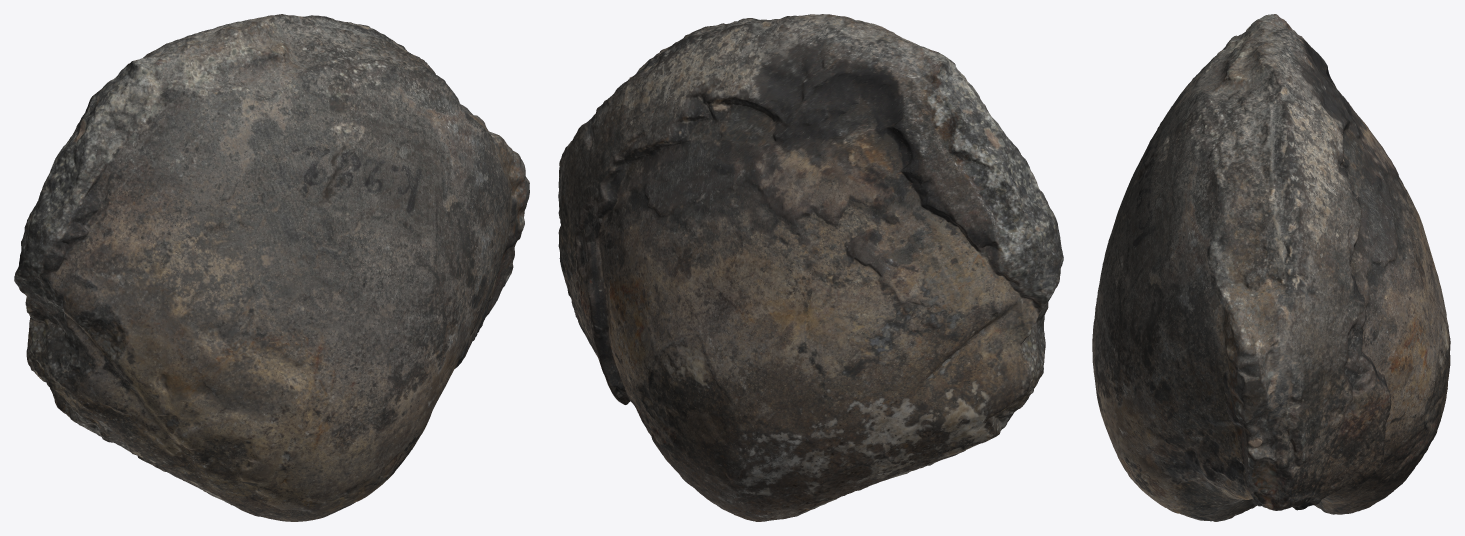
File: EWS0016573.glb
The picture shows the model from 3 angles, left to right: view 1: azimuth 30°, elevation 25°; view 2: azimuth 150°, elevation 25°; view 3: azimuth 270°, elevation 25°; orthographic projection. The views are drawn at different scales.
Visible parts, largest first — view 1: input; view 2: input; view 3: input.
Boxes of the visible parts, x1=… form: input: x1=14, y1=14, x2=529, y2=521; input: x1=558, y1=14, x2=1063, y2=521; input: x1=1092, y1=14, x2=1450, y2=521.
Size of the model in its own units: 0.0473 by 0.0433 by 0.0311.
1 material, 1 textured.
